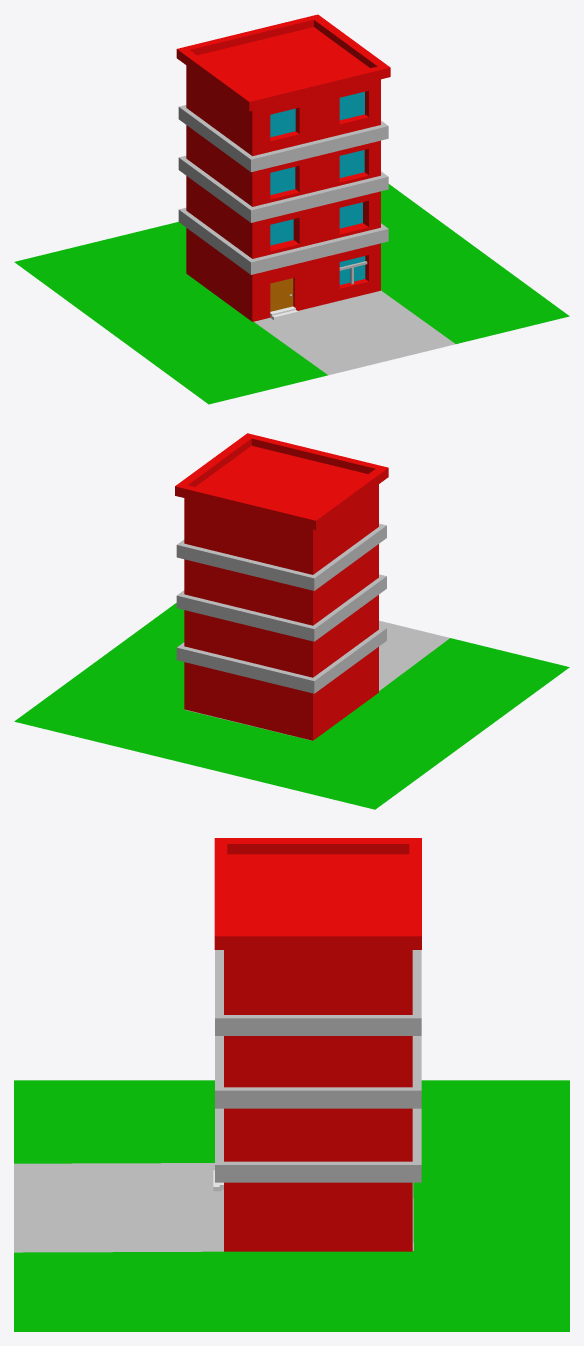
The model's file is house_red.obj.
The picture shows the model from 3 angles, top to bottom: view 1: azimuth 30°, elevation 25°; view 2: azimuth 150°, elevation 25°; view 3: azimuth 270°, elevation 25°; orthographic projection. The views are drawn at different scales.
Parts seen in each view (by area): view 1: Cube.526_Cube.524, Plane.103_Plane.105, Cube.524_Cube.522, Plane.104_Plane.106, Cube.521_Cube.519, Cube.522_Cube.520; view 2: Cube.526_Cube.524, Plane.103_Plane.105, Cube.524_Cube.522, Plane.104_Plane.106; view 3: Plane.103_Plane.105, Cube.526_Cube.524, Plane.104_Plane.106, Cube.524_Cube.522.
Boxes of the visible parts, x1,y1,x2,y2 form: Cube.526_Cube.524: [176, 14, 390, 321]; Plane.103_Plane.105: [14, 184, 569, 404]; Cube.524_Cube.522: [178, 105, 388, 274]; Plane.104_Plane.106: [254, 290, 455, 375]; Cube.521_Cube.519: [270, 91, 365, 284]; Cube.522_Cube.520: [270, 278, 293, 311]; Cube.526_Cube.524: [175, 433, 388, 740]; Plane.103_Plane.105: [14, 603, 569, 809]; Cube.524_Cube.522: [176, 523, 386, 693]; Plane.104_Plane.106: [185, 620, 449, 740]; Plane.103_Plane.105: [14, 1080, 569, 1331]; Cube.526_Cube.524: [214, 838, 421, 1251]; Plane.104_Plane.106: [14, 1163, 413, 1252]; Cube.524_Cube.522: [215, 950, 421, 1182].
Size of the model in its own units: 23.65 by 14.03 by 22.09.
